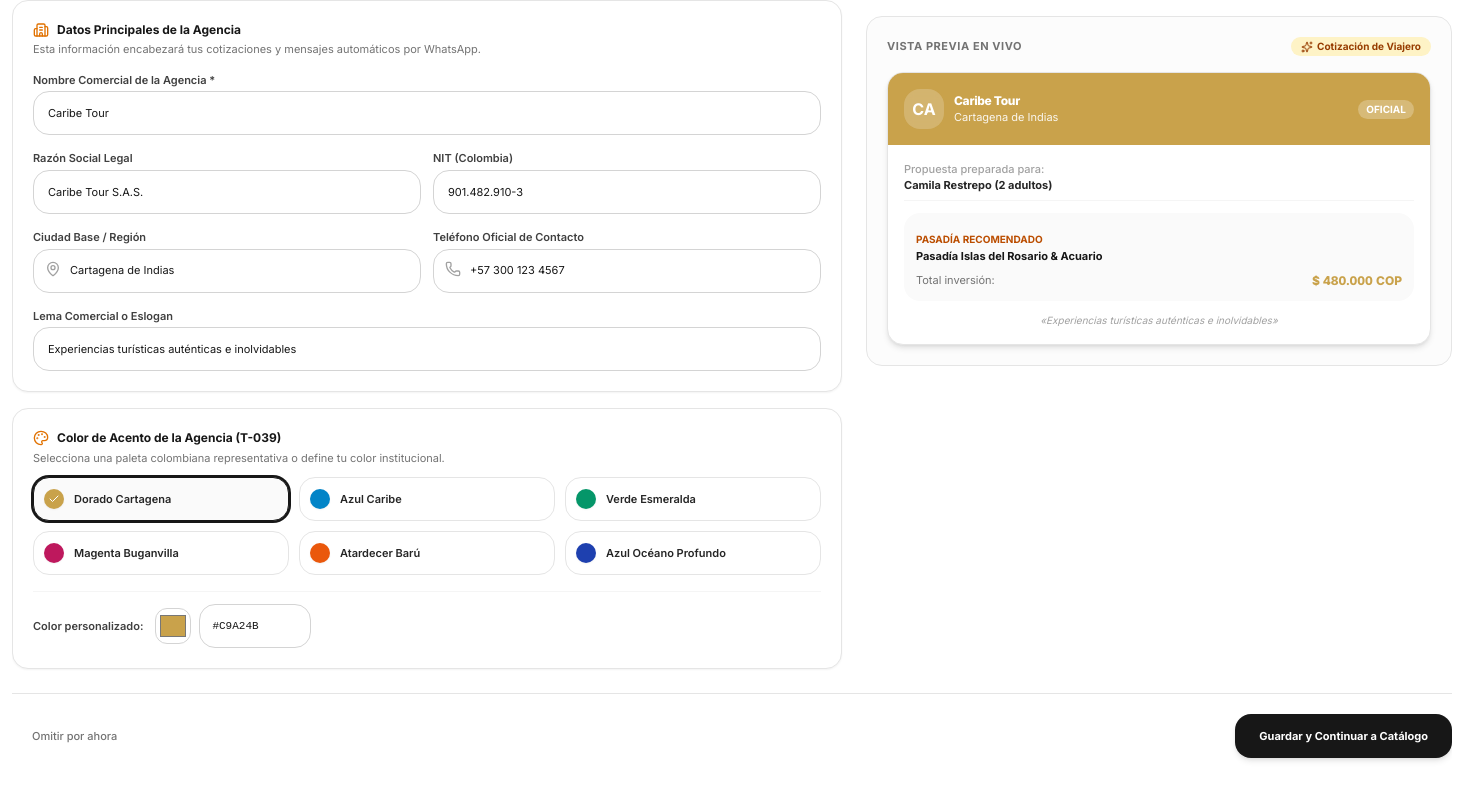
PasoMarca — Configuración de Marca e Identidad (T-105) › 2. Permite seleccionar una paleta predefinida y actualiza el color
Click the button "Azul Caribe".
click(427, 499)  # box x1=299 y1=477 x2=555 y2=521
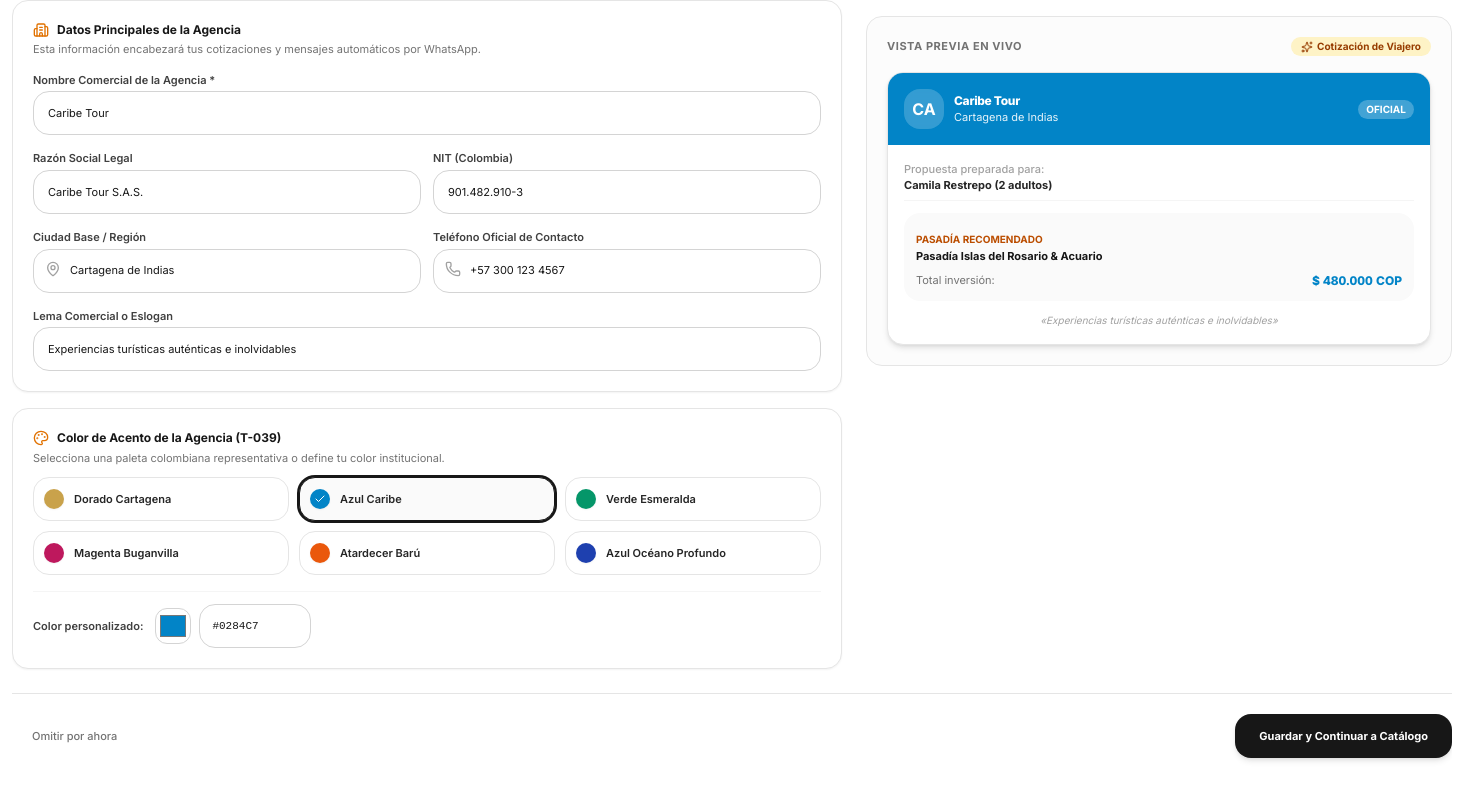
Now the field showing "#0284C7" next to "Color personalizado:" is shown, box x1=199 y1=604 x2=311 y2=648
